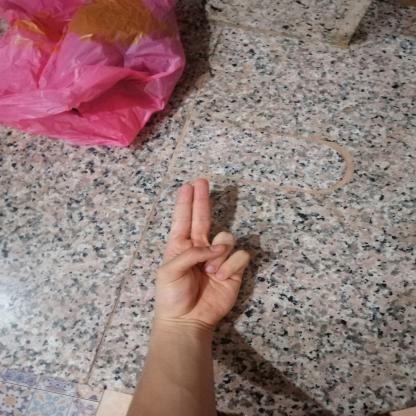TA: (142, 170, 261, 330)
